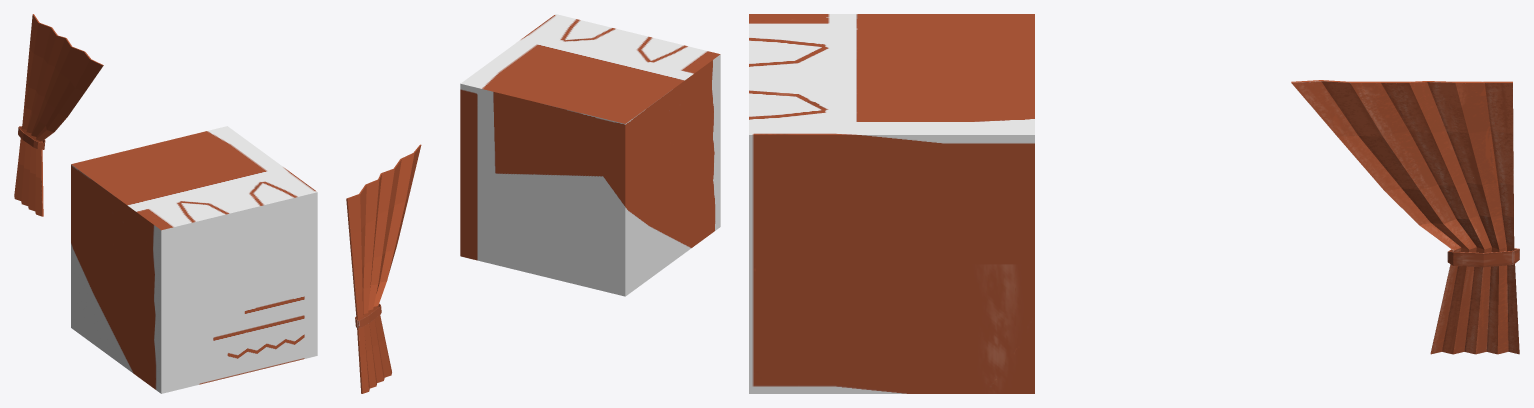
File: cortina.obj
3 views of the same model, side by side, from view 1: azimuth 30°, elevation 25°; view 2: azimuth 150°, elevation 25°; view 3: azimuth 270°, elevation 25° (orthographic). The views are drawn at different scales.
Visible parts, largest first — view 1: Cube_Material, Plane; view 2: Cube_Material, Plane; view 3: Cube_Material, Plane, Plane.002.
Boxes of the visible parts, x1,y1,x2,y2 form: Cube_Material: (71,126,317,393); Plane: (14,14,103,216); Cube_Material: (460,14,720,296); Plane: (346,144,421,393); Cube_Material: (749,14,1034,393); Plane: (1291,80,1519,354); Plane.002: (1447,248,1519,267).
Size of the model in its own units: 2 by 2.19 by 5.39.
Materials: 1 (1 with a texture image).
